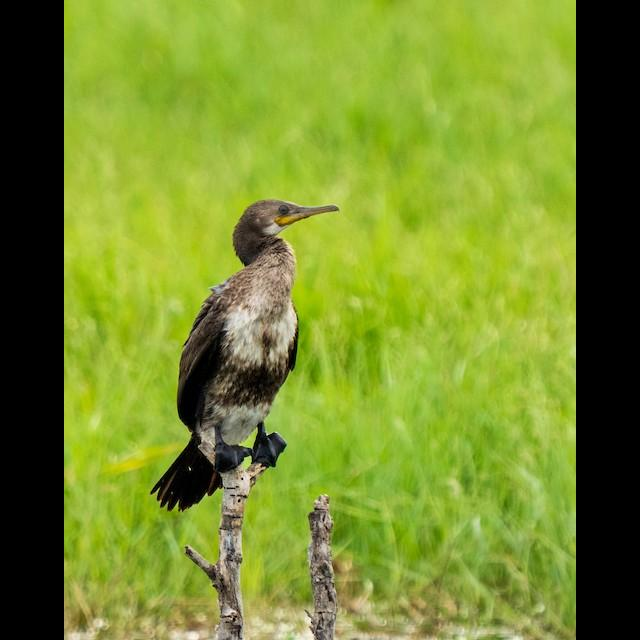cormorant: (150, 198, 342, 512)
